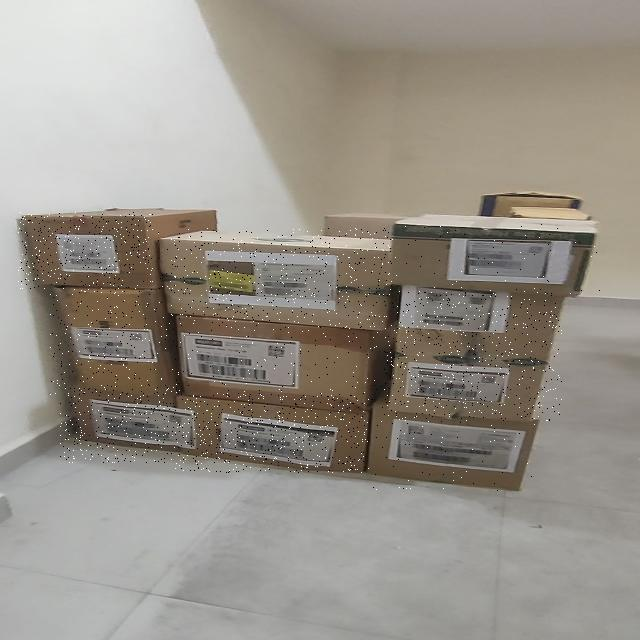BoxFace: (157, 228, 393, 328), (384, 292, 562, 421), (172, 313, 378, 411), (366, 402, 544, 492), (388, 222, 600, 297), (174, 393, 369, 473), (50, 286, 167, 396), (18, 212, 153, 289), (61, 387, 180, 463)
